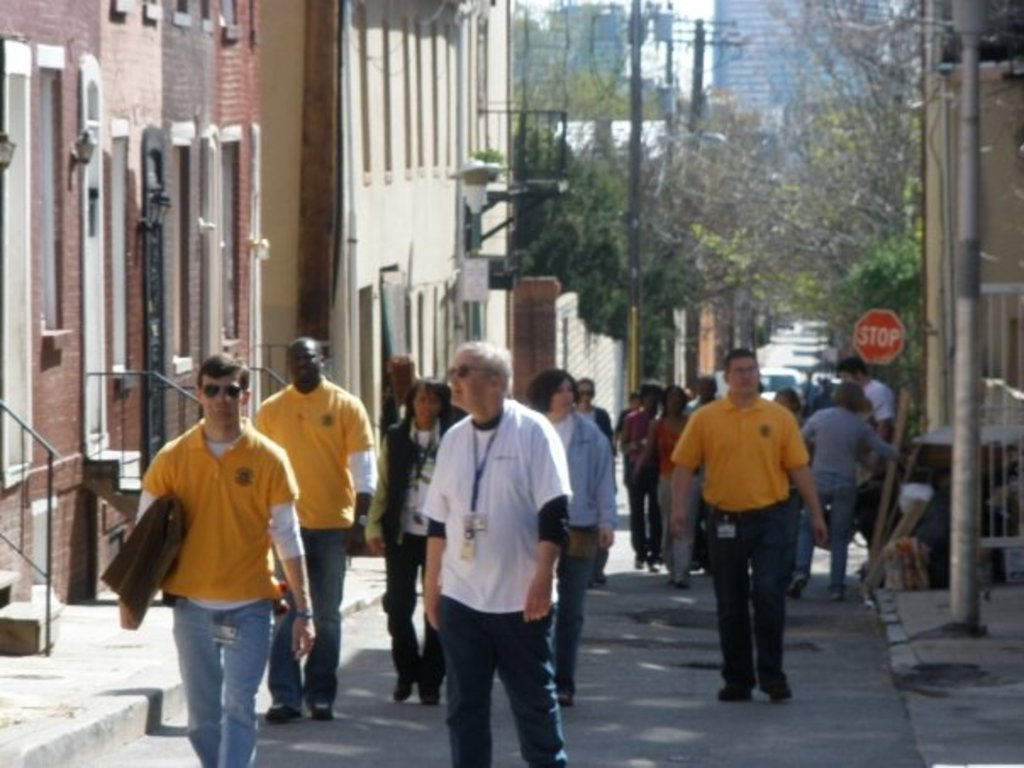Footwear: (393, 676, 442, 705), (758, 673, 797, 702), (717, 682, 754, 707), (263, 702, 303, 724), (787, 573, 809, 598), (556, 688, 580, 709), (312, 702, 334, 719), (832, 590, 849, 607)
